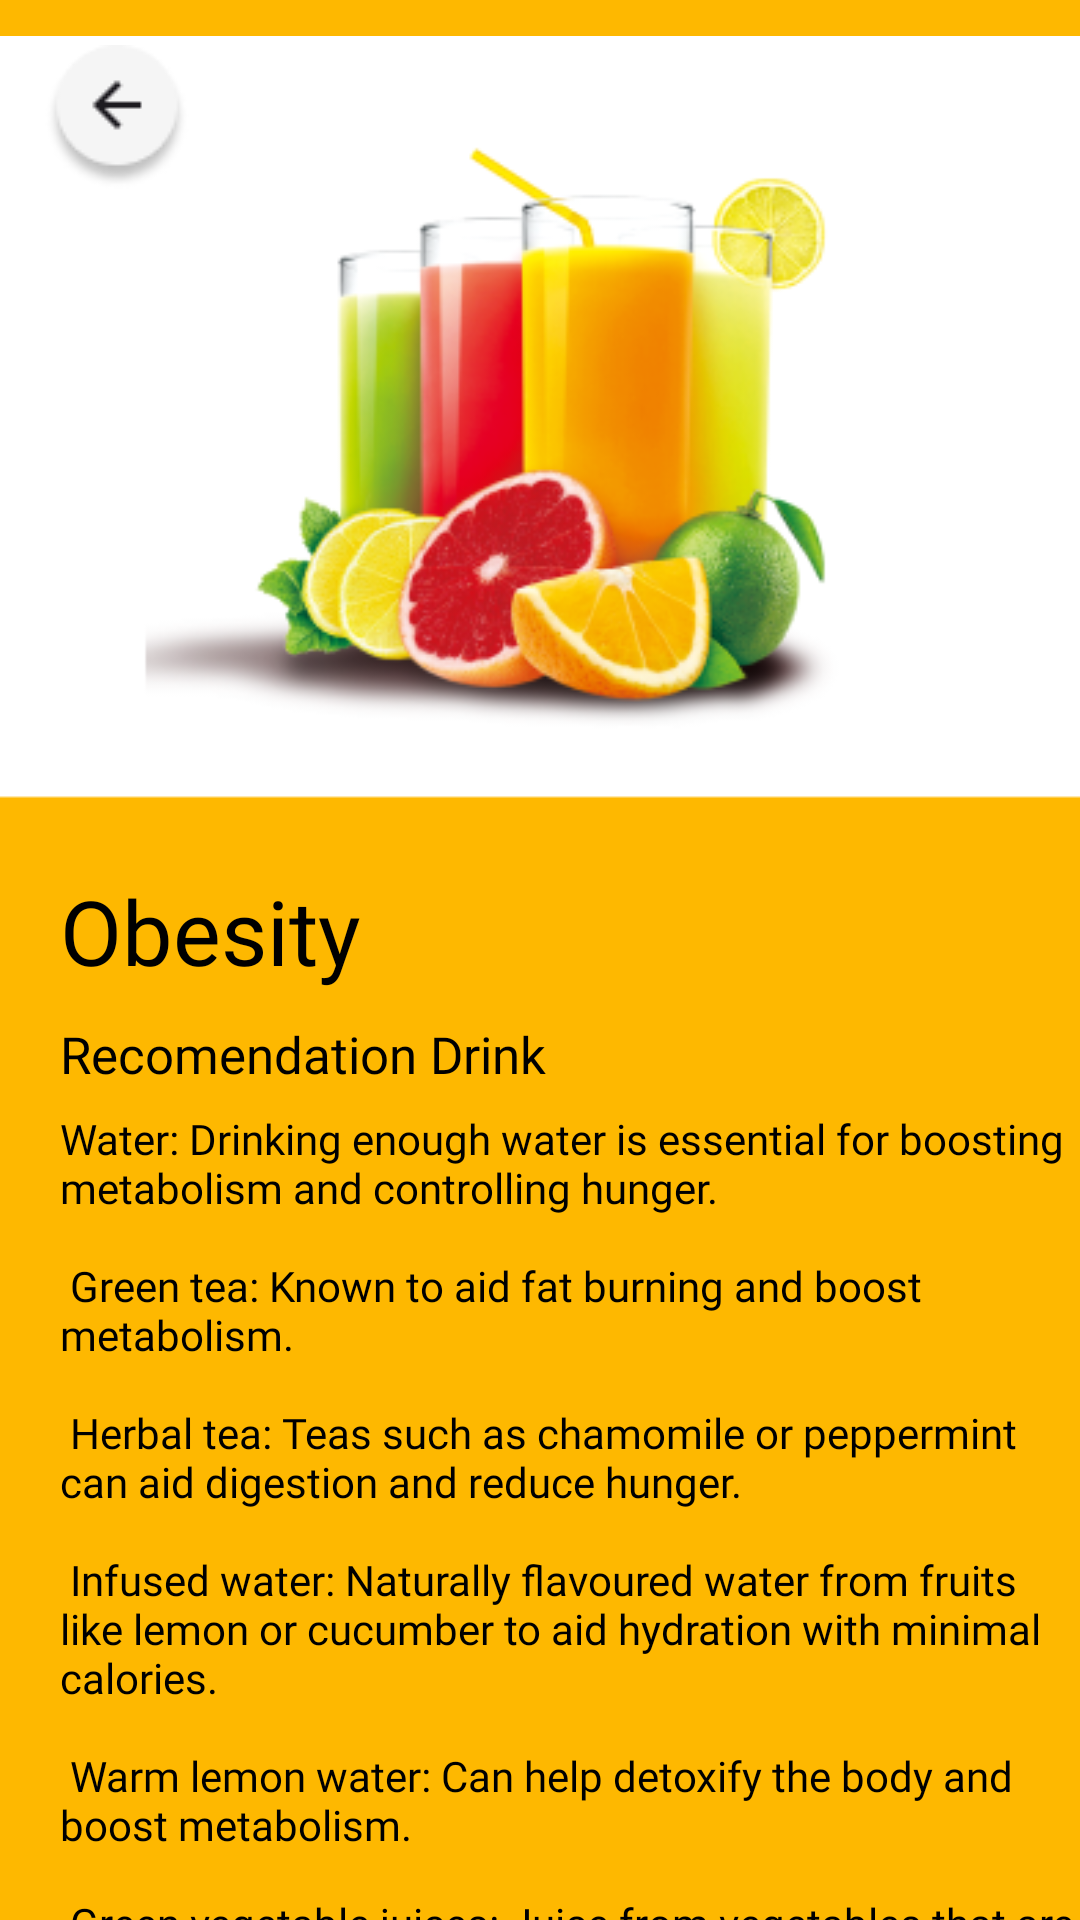

Named icons in this screenshot (1080px x 1920px) and their centers, point (x, y):
back: point (117, 114)
